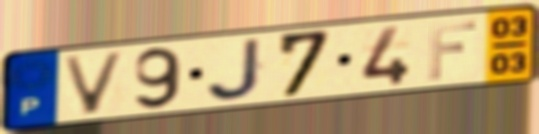4: (359, 23, 414, 87)
7: (274, 28, 334, 101)
9: (132, 45, 187, 111)
F: (425, 18, 479, 82)
J: (203, 35, 267, 104)
V: (59, 50, 130, 117)
